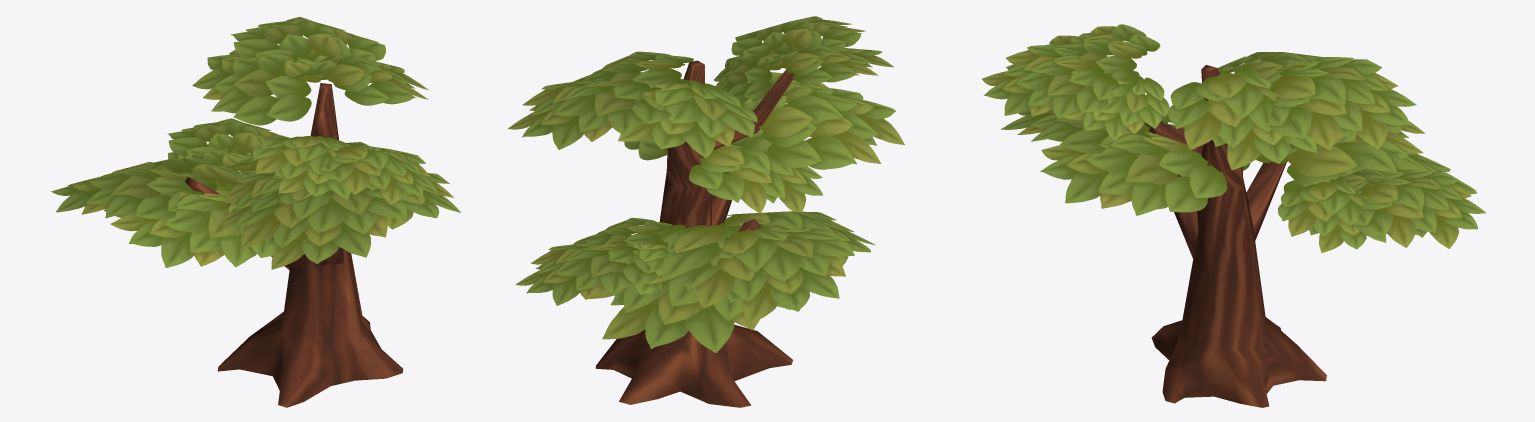
Rendered from FRM0210013.fbx.
3 views of the same model, side by side, from view 1: azimuth 30°, elevation 25°; view 2: azimuth 150°, elevation 25°; view 3: azimuth 270°, elevation 25° (orthographic). The views are drawn at different scales.
Visible parts, largest first — view 1: smFRM0210013; view 2: smFRM0210013; view 3: smFRM0210013.
Boxes of the visible parts, left/top/right/bottom form: smFRM0210013: left=51, top=17, right=460, bottom=407; smFRM0210013: left=508, top=16, right=904, bottom=407; smFRM0210013: left=982, top=24, right=1485, bottom=407.
Bounding box in the file's own units: 579 × 469 × 767.
1 material, 1 textured.
